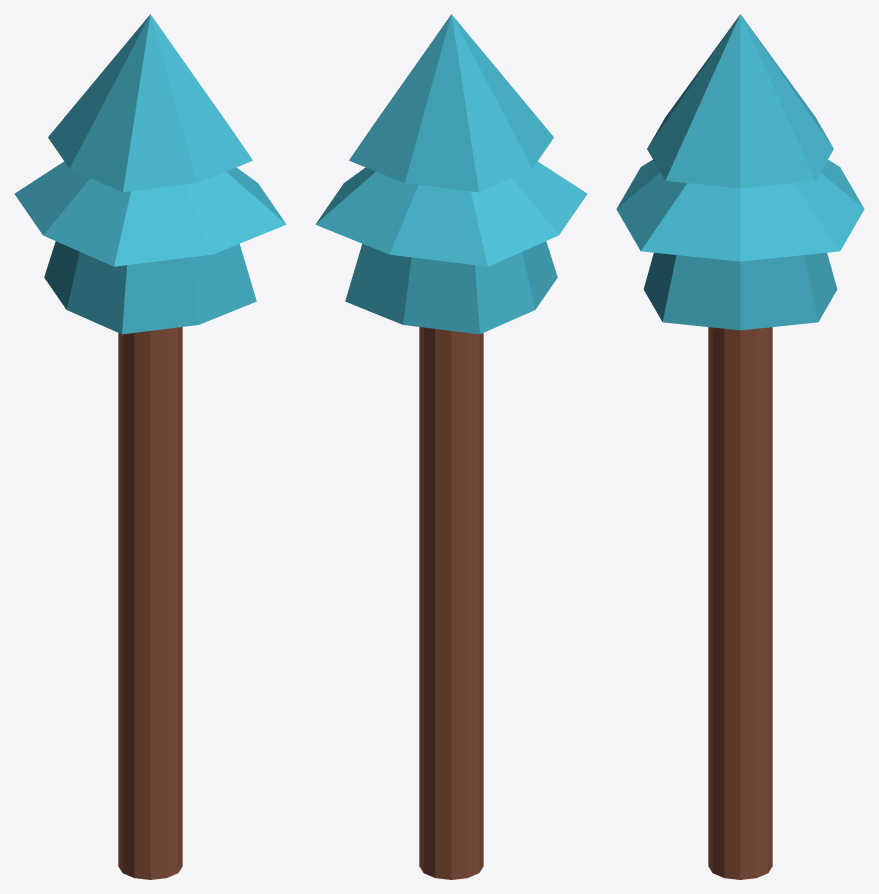
File: Tree_20_summer_blue_pal.fbx
3 views of the same model, side by side, from view 1: azimuth 30°, elevation 25°; view 2: azimuth 150°, elevation 25°; view 3: azimuth 270°, elevation 25° (orthographic).
Visible parts, largest first — view 1: Tree_20_summer_blue_pal; view 2: Tree_20_summer_blue_pal; view 3: Tree_20_summer_blue_pal.
Part boxes in pixels (box(x1,y1,x2,y2)): Tree_20_summer_blue_pal: box(14, 14, 286, 879); Tree_20_summer_blue_pal: box(315, 14, 587, 879); Tree_20_summer_blue_pal: box(616, 14, 864, 879).
Size of the model in its own units: 85.54 by 324 by 85.54.
